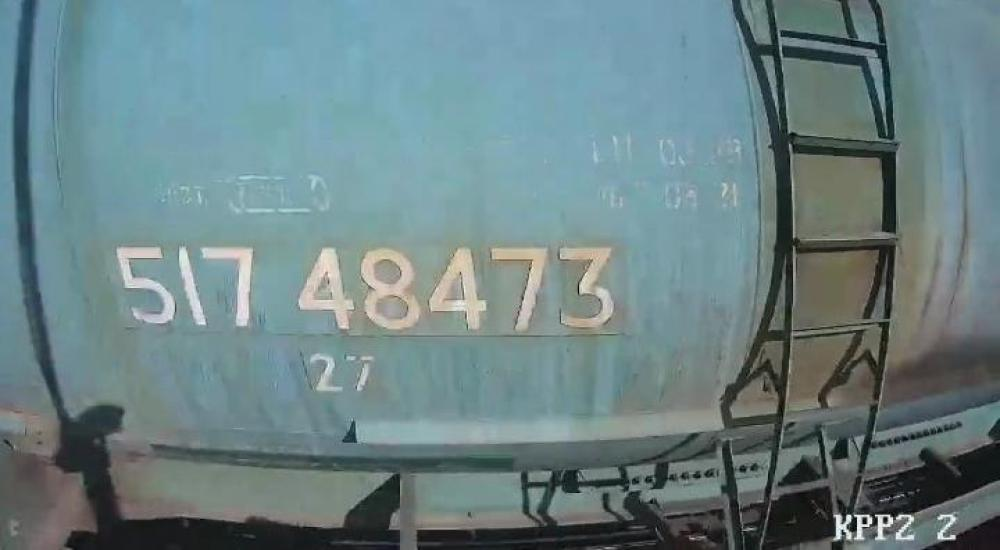Wagon-number: (111, 237, 624, 341)
